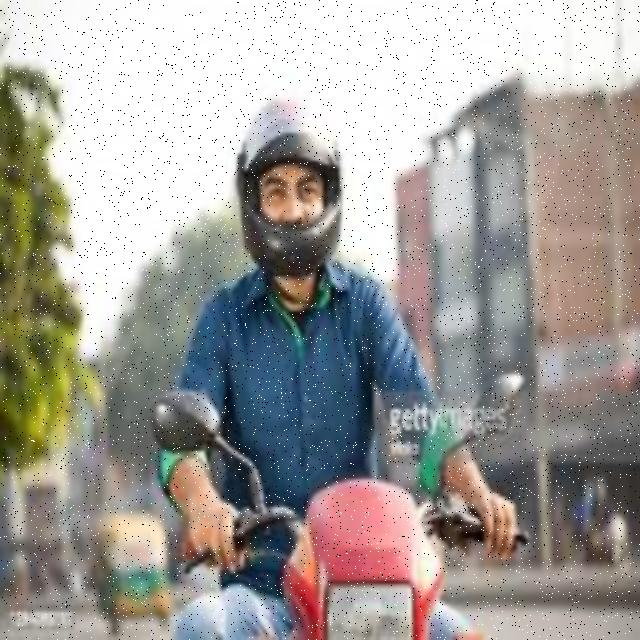not_triplets: (101, 48, 534, 640)
with-helmet: (235, 91, 351, 280)
